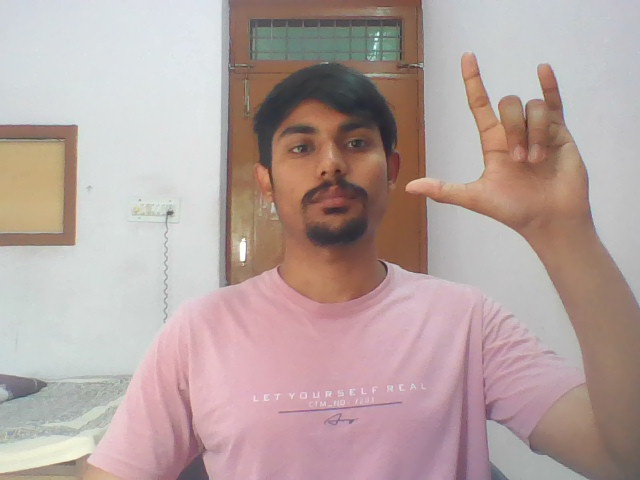I Love You: (400, 51, 604, 223)
